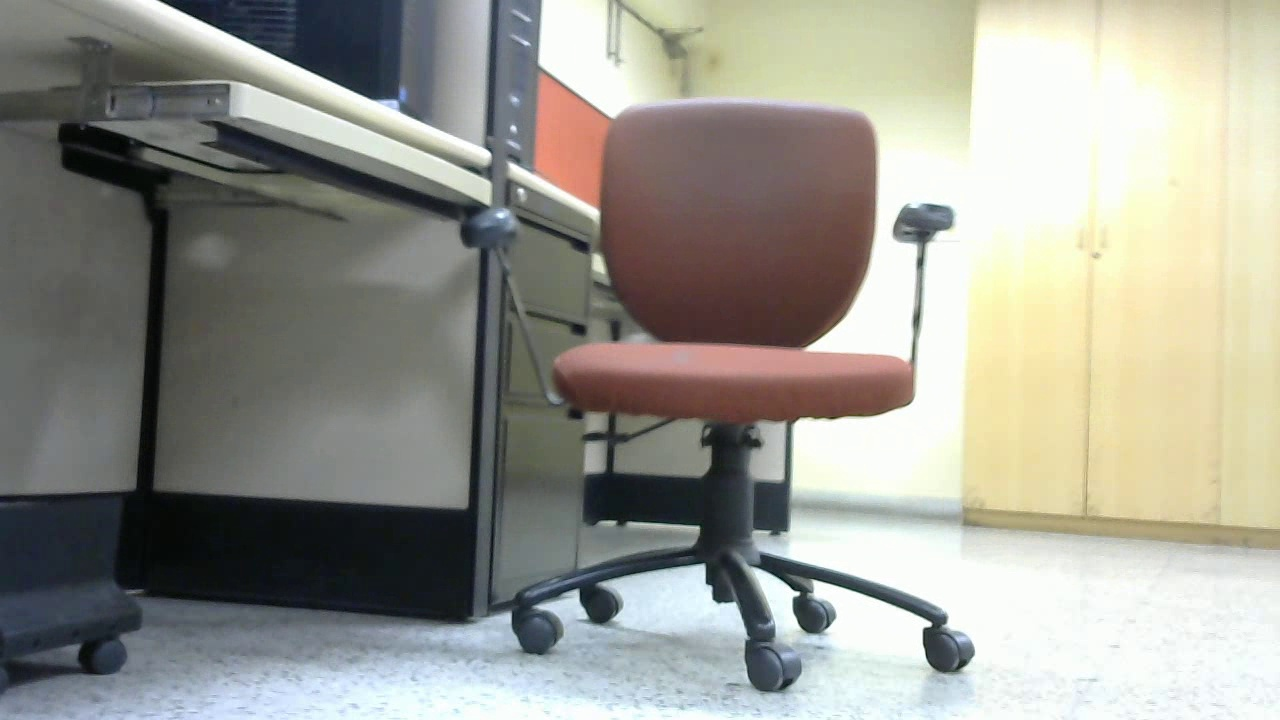chair: (500, 224, 759, 540), (144, 173, 344, 509)
